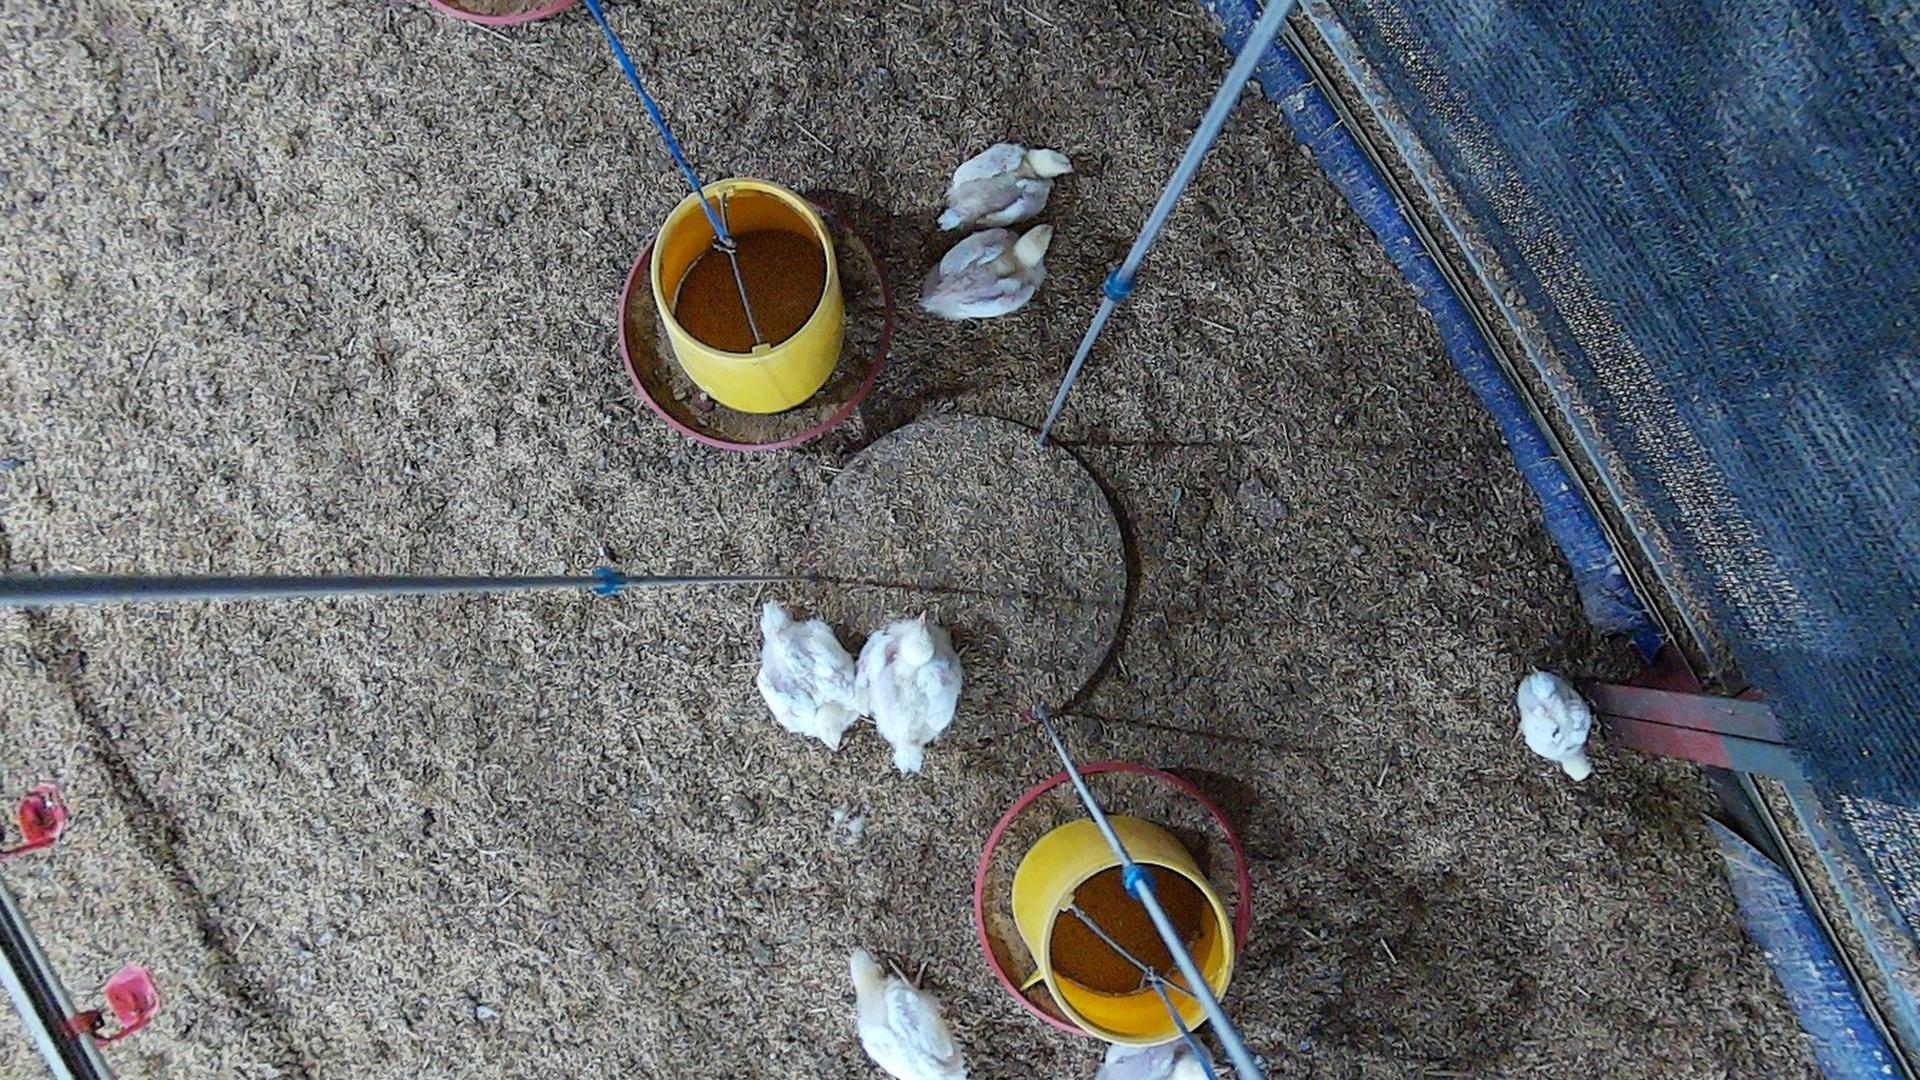ayam_broiler: (855, 616, 961, 773), (757, 601, 862, 750), (851, 948, 964, 1079), (920, 222, 1052, 319), (938, 142, 1068, 228), (1518, 673, 1592, 781)
